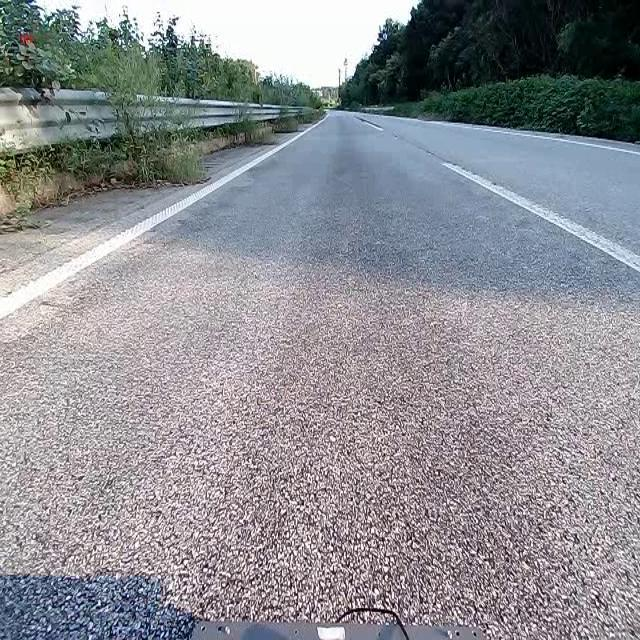Lane: (0, 112, 332, 332), (0, 121, 322, 319), (352, 105, 640, 308), (442, 162, 639, 272), (418, 119, 639, 155), (355, 117, 383, 130)
